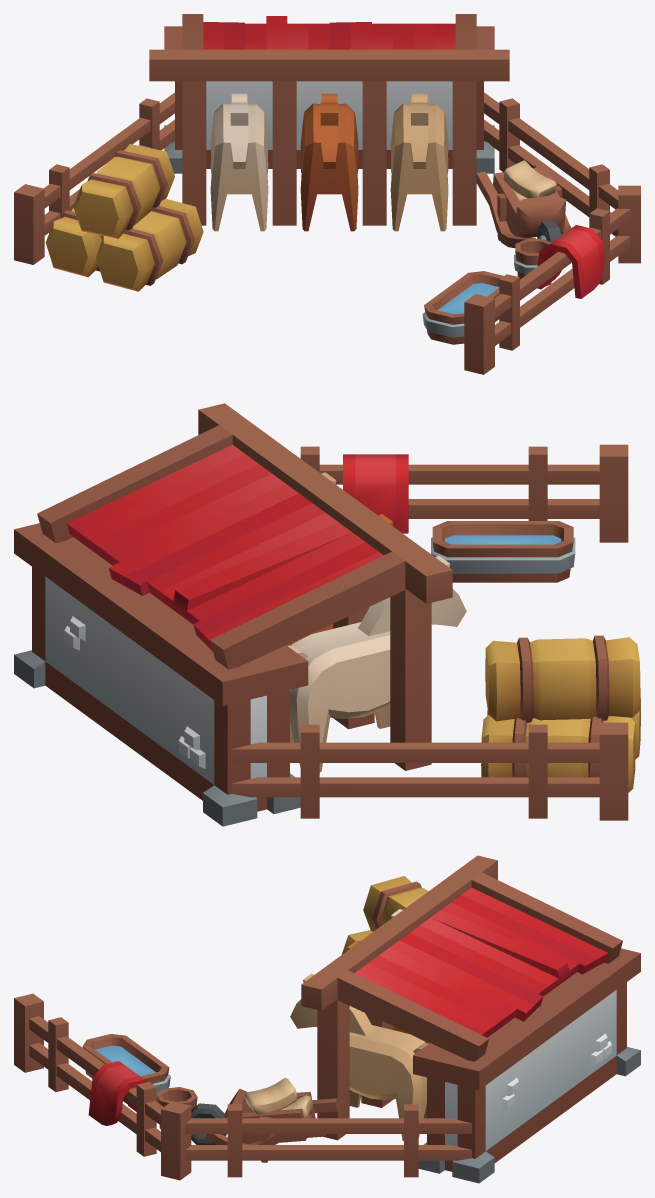
The model's file is stables.glb.
3 renders of one model, top to bottom at view 1: azimuth 30°, elevation 25°; view 2: azimuth 150°, elevation 25°; view 3: azimuth 270°, elevation 25°, orthographic. The views are drawn at different scales.
Parts seen in each view (by area): view 1: building_stables_red; view 2: building_stables_red; view 3: building_stables_red.
Part boxes in pixels (x1,y1,x2,y2): building_stables_red: (14,14,640,374); building_stables_red: (14,403,640,826); building_stables_red: (14,855,640,1183).
Bounding box in the file's own units: 1.86 × 0.6115 × 2.13.
1 material, 1 textured.
